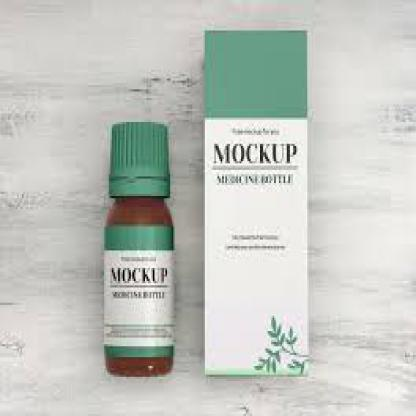jar: (104, 122, 174, 376)
